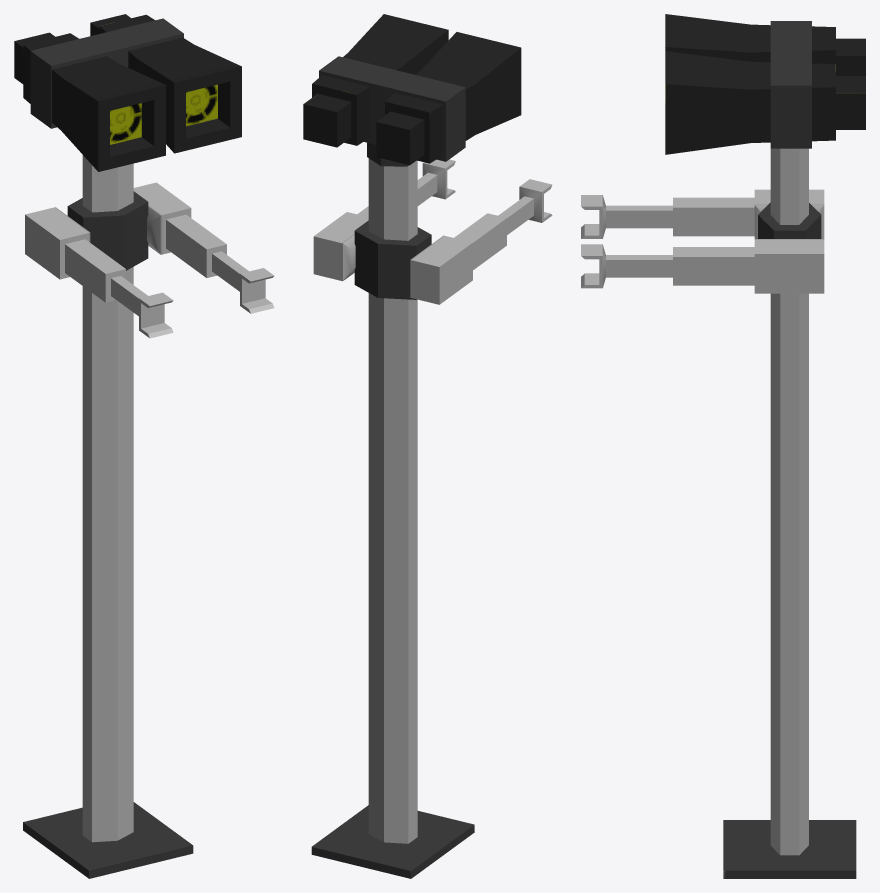
File: Desk_Robot.fbx
The picture shows the model from 3 angles, left to right: view 1: azimuth 30°, elevation 25°; view 2: azimuth 150°, elevation 25°; view 3: azimuth 270°, elevation 25°; orthographic projection. The views are drawn at different scales.
Parts seen in each view (by area): view 1: Robot_Desk; view 2: Robot_Desk; view 3: Robot_Desk.
Part boxes in pixels (x1,y1,x2,y2): Robot_Desk: (14, 14, 274, 878); Robot_Desk: (303, 14, 552, 878); Robot_Desk: (581, 14, 865, 878).
Bounding box in the file's own units: 95.59 × 511 × 164.
1 material, 1 textured.
